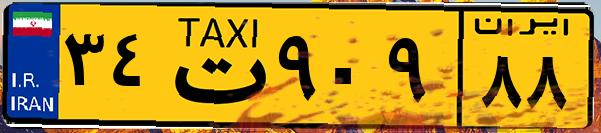0: (330, 28, 385, 110)
3: (57, 26, 110, 100)
4: (110, 28, 158, 98)
8: (475, 38, 525, 113), (525, 38, 570, 115)
9: (270, 28, 330, 110), (385, 28, 445, 110)
ت: (158, 12, 270, 120)
